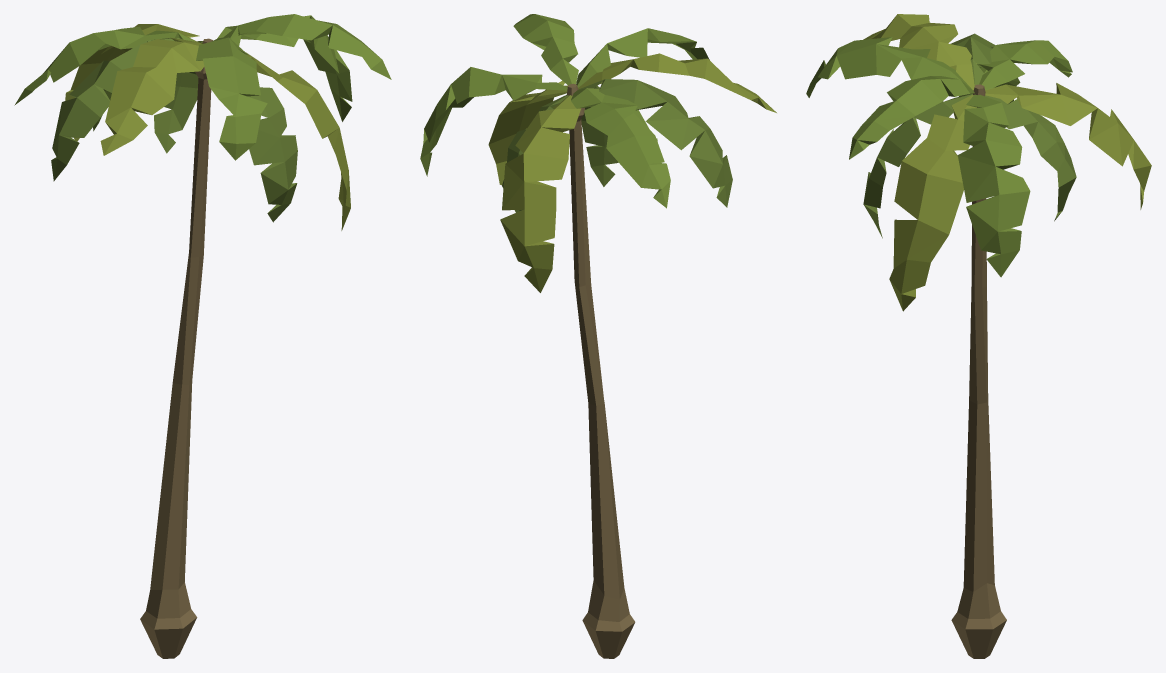
The model's file is Palm_6.fbx.
3 renders of one model, left to right at view 1: azimuth 30°, elevation 25°; view 2: azimuth 150°, elevation 25°; view 3: azimuth 270°, elevation 25°, orthographic. The views are drawn at different scales.
Parts seen in each view (by area): view 1: Palm_6; view 2: Palm_6; view 3: Palm_6.
Part boxes in pixels (x1,y1,x2,y2): Palm_6: [14, 14, 391, 658]; Palm_6: [420, 14, 776, 658]; Palm_6: [806, 14, 1151, 658].
Size of the model in its own units: 333 by 649 by 327.
